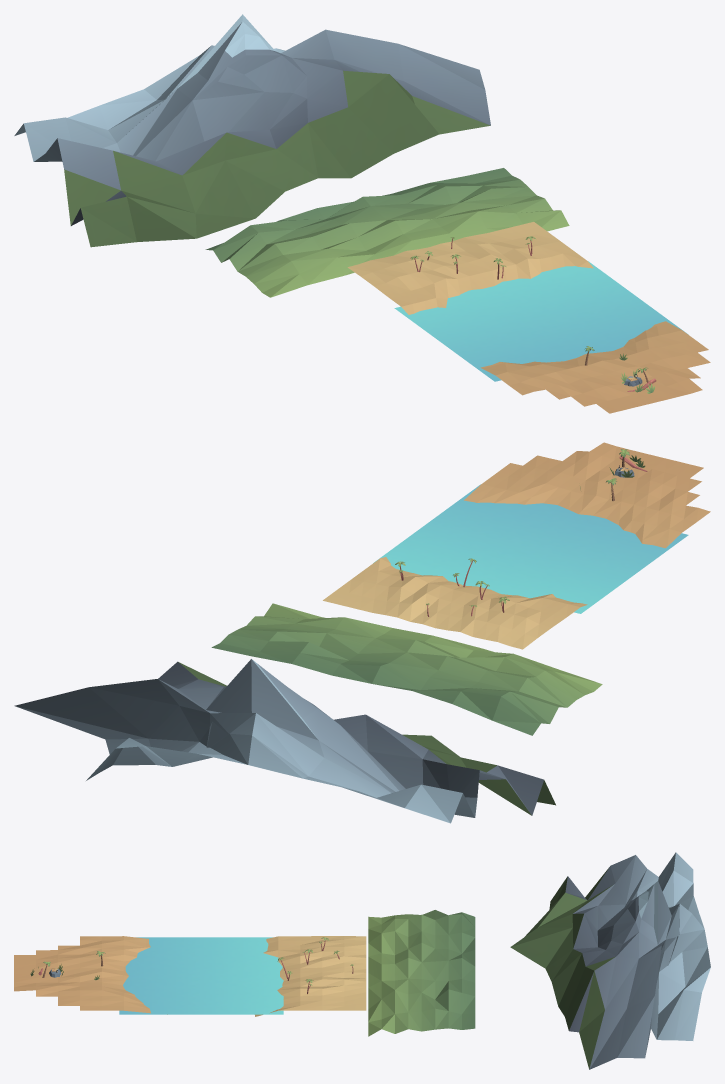
Rendered from palm.fbx.
3 renders of one model, top to bottom at view 1: azimuth 30°, elevation 25°; view 2: azimuth 150°, elevation 25°; view 3: azimuth 270°, elevation 25°, orthographic. The views are drawn at different scales.
Parts seen in each view (by area): view 1: Mountain, Ground.003, Plane, river; view 2: Mountain, Ground.003, Plane, river; view 3: Mountain, Ground.003, Plane, river.
Boxes of the visible parts, bbox=[...] form: Mountain: bbox=[14, 14, 490, 247]; Ground.003: bbox=[347, 222, 710, 413]; Plane: bbox=[205, 168, 569, 297]; river: bbox=[394, 261, 688, 381]; Mountain: bbox=[14, 659, 555, 823]; Ground.003: bbox=[323, 442, 710, 649]; Plane: bbox=[211, 603, 602, 735]; river: bbox=[373, 484, 688, 613]; Mountain: bbox=[510, 852, 710, 1069]; Ground.003: bbox=[14, 936, 366, 1016]; Plane: bbox=[368, 910, 475, 1036]; river: bbox=[119, 937, 283, 1014].
Bounding box in the file's own units: 20.25 × 5.9 × 33.48.
